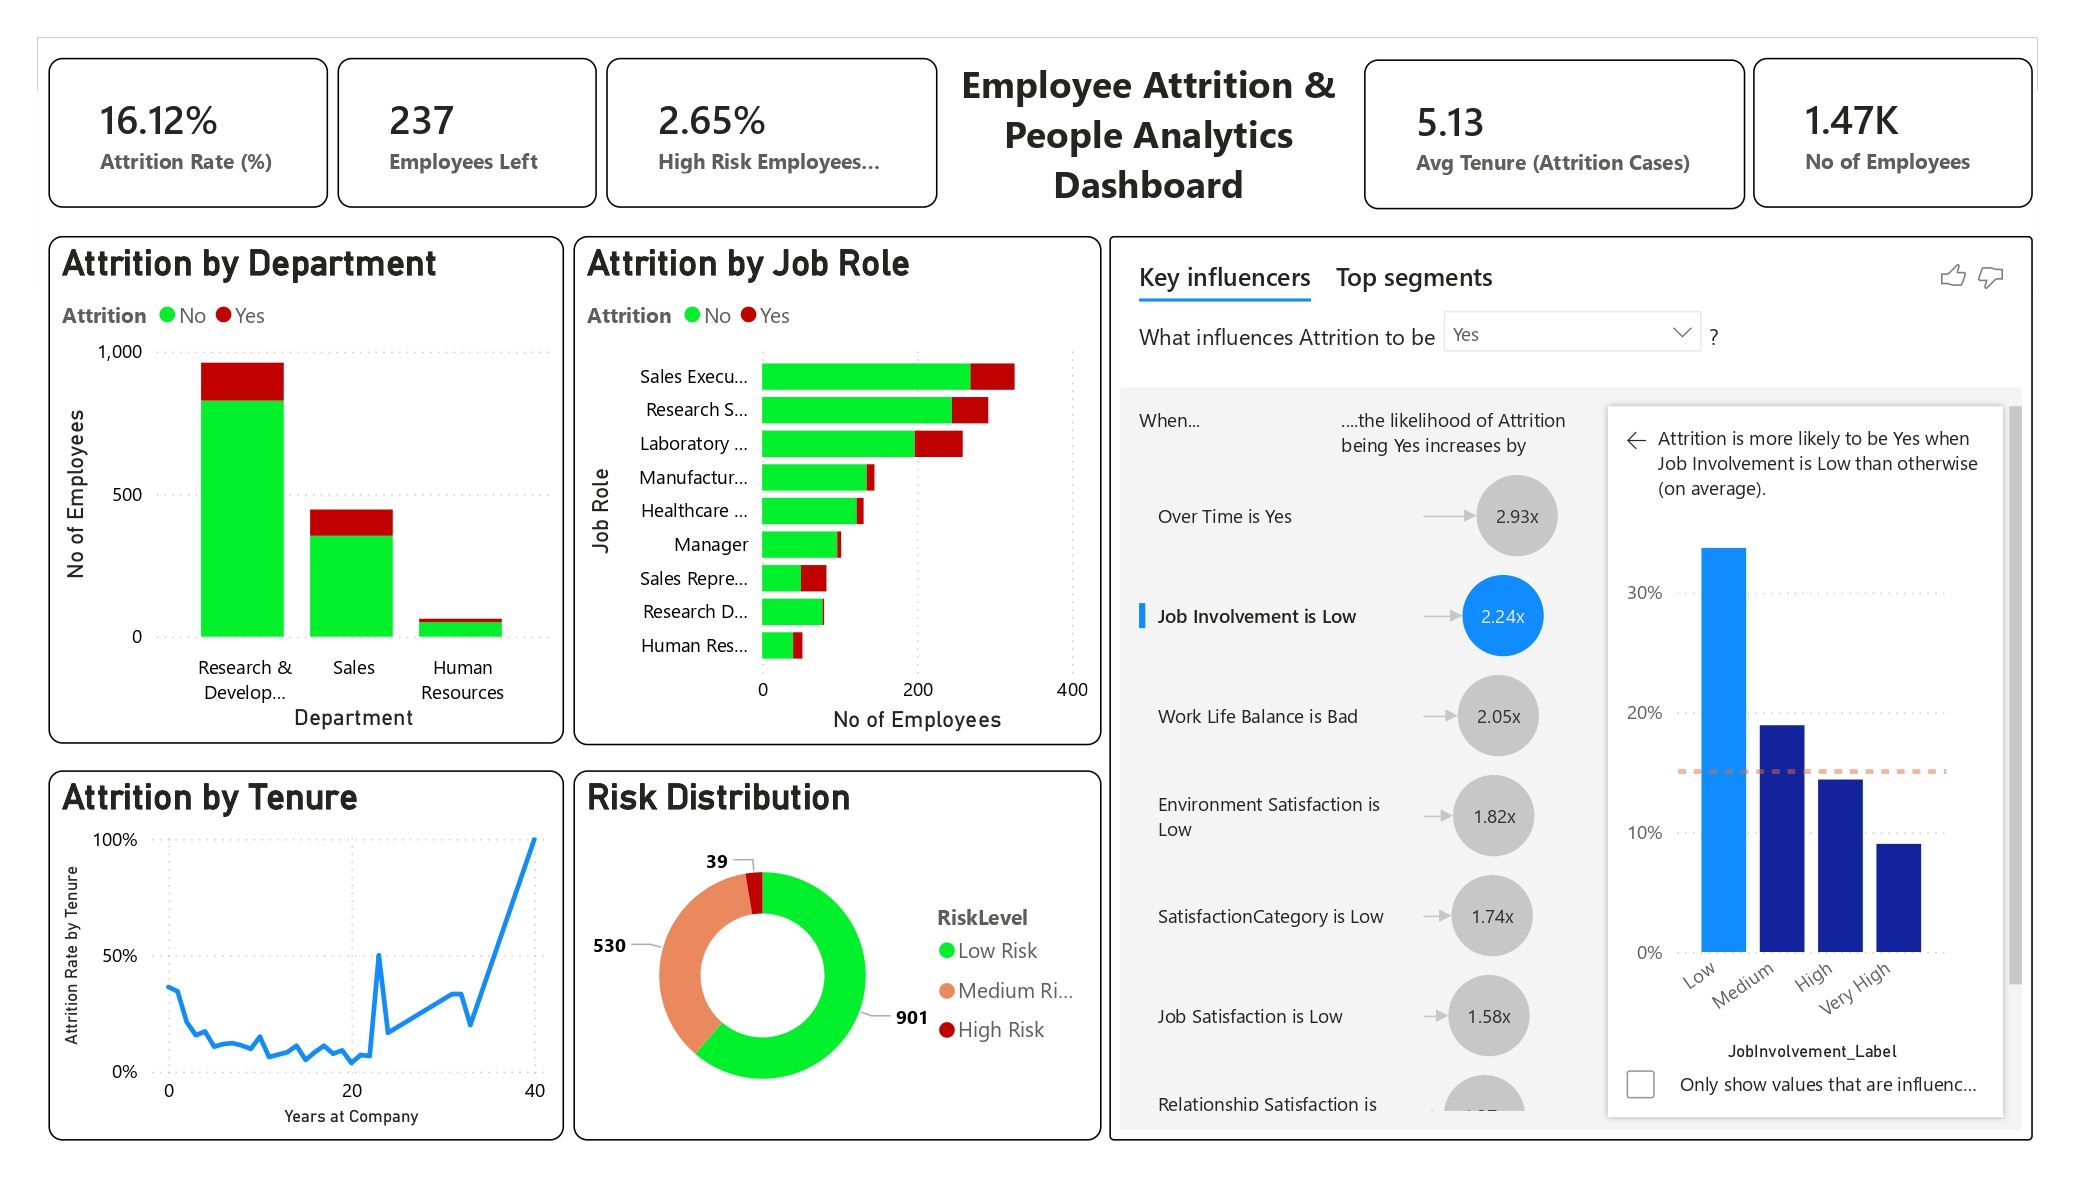

The page's visual inventory and layout, read from the dashboard file:
{"tool":"powerbi","page":{"name":"Page 1","canvas":[1280,720],"ordinal":0},"visuals":[{"type":"cardVisual","fields":{"Data":["cleaned_hr_data.Attrition Rate (%)"]},"box":[7,12.8,179.1,96.5],"z":0},{"type":"cardVisual","fields":{"Data":["cleaned_hr_data.Avg Tenure (Attrition Cases)"]},"box":[848.8,14,244.2,96.5],"z":1000},{"type":"cardVisual","fields":{"Data":["cleaned_hr_data.Employees Left"]},"box":[191.9,12.8,166.3,96.5],"z":2000},{"type":"cardVisual","fields":{"Data":["cleaned_hr_data.High Risk Employees (%)"]},"box":[364,12.8,211.6,96.5],"z":3000},{"type":"cardVisual","fields":{"Data":["CountNonNull(cleaned_hr_data.EmployeeCount)"]},"box":[1097.7,12.8,179.1,96.5],"z":4000},{"type":"columnChart","title":"Attrition by Department","fields":{"Series":["cleaned_hr_data.Attrition"],"Category":["cleaned_hr_data.Department"],"Y":["CountNonNull(cleaned_hr_data.EmployeeNumber)"]},"box":[7,126.7,330.2,325.6],"z":5000},{"type":"barChart","title":"Attrition by Job Role","fields":{"Category":["cleaned_hr_data.JobRole"],"Series":["cleaned_hr_data.Attrition"],"Y":["Count(cleaned_hr_data.EmployeeNumber)"]},"box":[343,126.7,338.4,326.7],"z":6000},{"type":"lineChart","title":"Attrition by Tenure","fields":{"Category":["cleaned_hr_data.YearsAtCompany"],"Y":["cleaned_hr_data.Attrition Rate by Tenure"]},"box":[7,468.6,330.2,237.2],"z":7000},{"type":"keyDriversVisual","fields":{"Target":["cleaned_hr_data.Attrition"],"ExplainBy":["cleaned_hr_data.JobSatisfaction_Label","cleaned_hr_data.WorkLifeBalance_Label","cleaned_hr_data.EnvironmentSatisfaction_Label","cleaned_hr_data.RelationshipSatisfaction_Label","cleaned_hr_data.JobInvolvement_Label","cleaned_hr_data.OverTime","cleaned_hr_data.SatisfactionCategory"]},"box":[686,126.7,590.7,579.1],"z":8000},{"type":"donutChart","title":"Risk Distribution","fields":{"Category":["cleaned_hr_data.RiskLevel"],"Y":["Sum(cleaned_hr_data.EmployeeCount)"]},"box":[343,468.6,338.4,237.2],"z":9000},{"type":"textbox","box":[574.4,8.1,273.3,114],"z":9001}]}

Visuals, with their boxes in screenshot pixels (x1, y1, x2, y2):
cardVisual - cleaned_hr_data.Attrition Rate (%): detection(54, 58, 330, 206)
cardVisual - cleaned_hr_data.Avg Tenure (Attrition Cases): detection(1352, 59, 1729, 208)
cardVisual - cleaned_hr_data.Employees Left: detection(339, 58, 596, 206)
cardVisual - cleaned_hr_data.High Risk Employees (%): detection(605, 58, 931, 206)
cardVisual - CountNonNull(cleaned_hr_data.EmployeeCount): detection(1736, 58, 2012, 206)
"Attrition by Department" columnChart: detection(54, 233, 563, 735)
"Attrition by Job Role" barChart: detection(572, 233, 1094, 737)
"Attrition by Tenure" lineChart: detection(54, 760, 563, 1126)
keyDriversVisual - cleaned_hr_data.Attrition x cleaned_hr_data.JobSatisfaction_Label: detection(1101, 233, 2012, 1126)
"Risk Distribution" donutChart: detection(572, 760, 1094, 1126)
textbox: detection(929, 50, 1350, 226)
